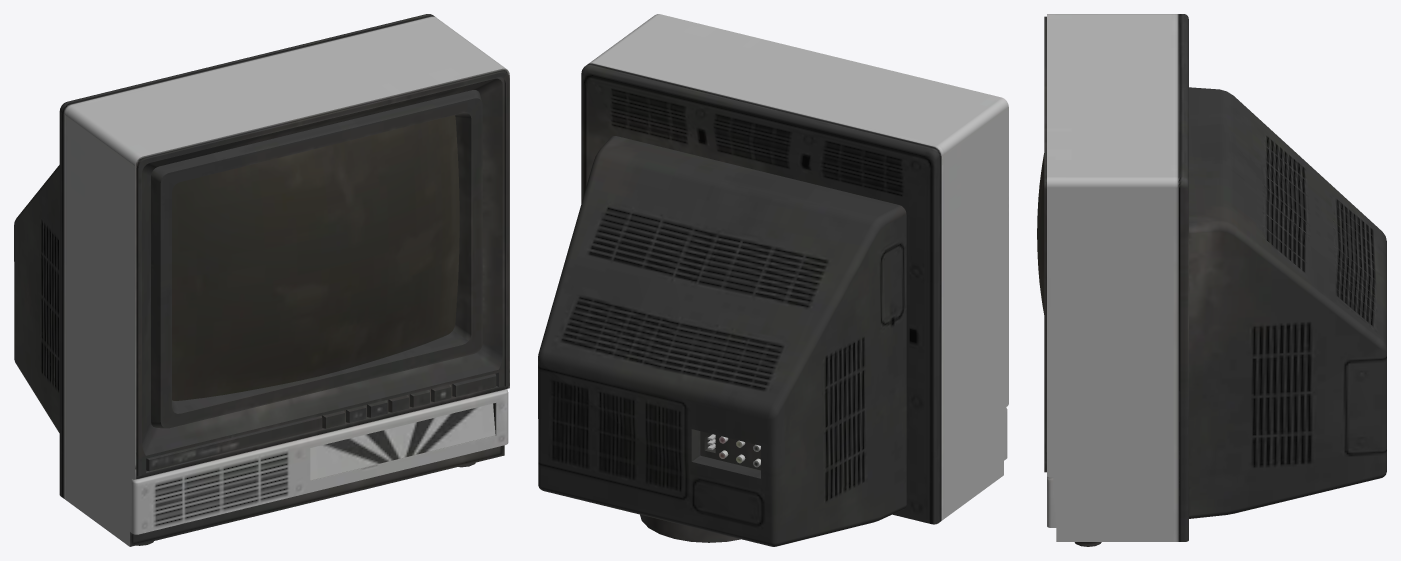
The model's file is television_02.glb.
3 renders of one model, left to right at view 1: azimuth 30°, elevation 25°; view 2: azimuth 150°, elevation 25°; view 3: azimuth 270°, elevation 25°, orthographic. The views are drawn at different scales.
Visible parts, largest first — view 1: television_02; view 2: television_02; view 3: television_02.
Part boxes in pixels (x1,y1,x2,y2): television_02: [14, 14, 509, 546]; television_02: [538, 14, 1008, 546]; television_02: [1037, 14, 1386, 546].
Size of the model in its own units: 0.3997 by 0.4114 by 0.3502.
1 material, 1 textured.
